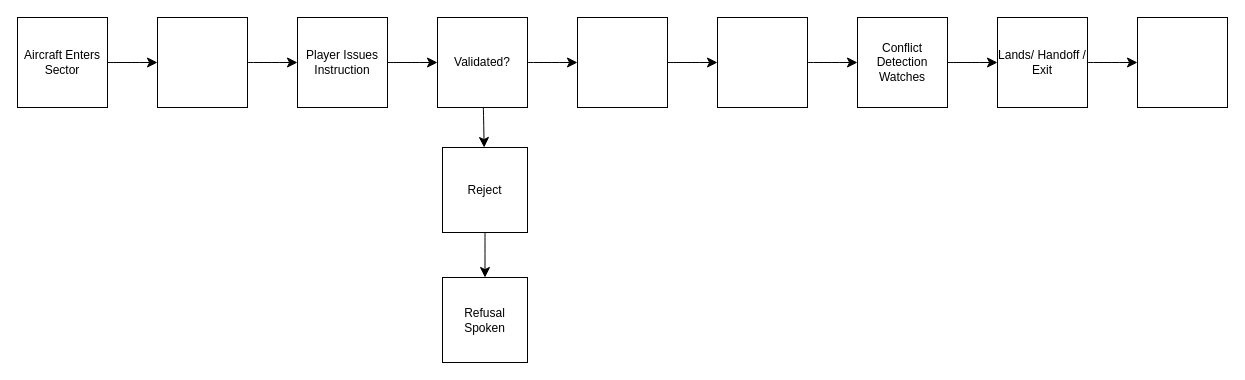
The diagram is 1245 pixels wide and 380 high, and some of its shapes have lost their labels. Here are the shapes that lost their labels. From the top down, the centre of each, then its label:
At pixel 202 62: "Player Reads Data Block".
At pixel 622 62: "Accept".
At pixel 762 62: "Aircraft Moves".
At pixel 1182 62: "Scored, Loop Back".
